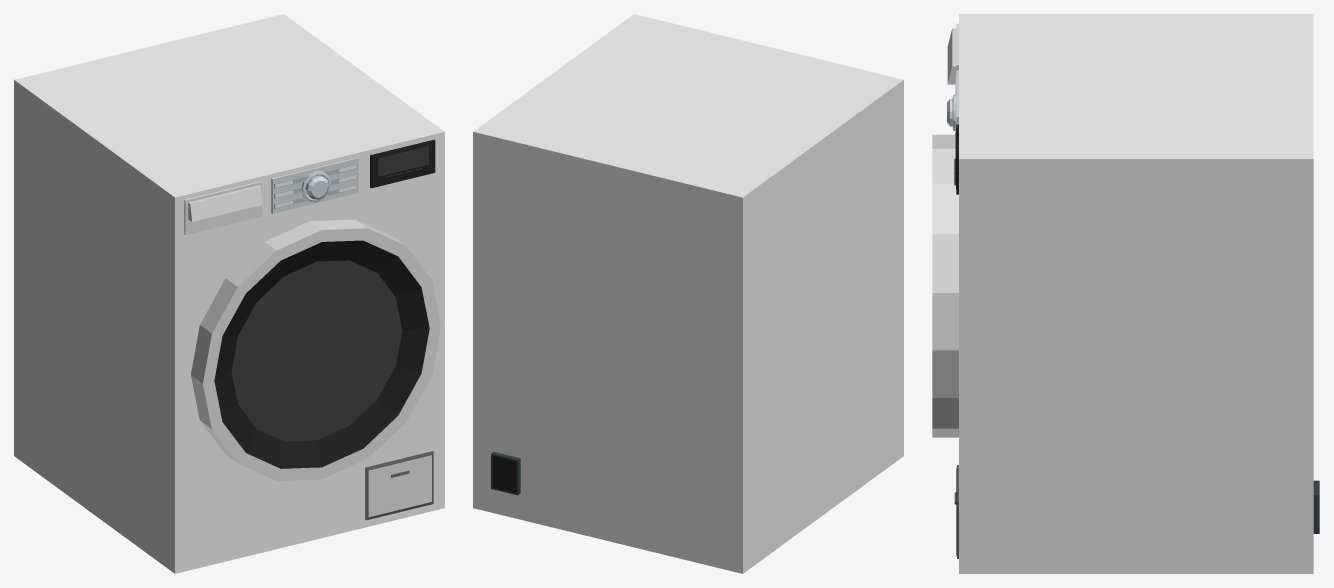
The model's file is KA-F600_Washer_V1.glb.
3 views of the same model, side by side, from view 1: azimuth 30°, elevation 25°; view 2: azimuth 150°, elevation 25°; view 3: azimuth 270°, elevation 25° (orthographic). The views are drawn at different scales.
Visible parts, largest first — view 1: KA-F600_Washer_V1, KA-F600_Washer_V1_Door, KA-F600_Washer_V1_Tray, KA-F600_Washer_V1_Knob; view 2: KA-F600_Washer_V1; view 3: KA-F600_Washer_V1, KA-F600_Washer_V1_Door, KA-F600_Washer_V1_Tray.
Part boxes in pixels (x1=…): KA-F600_Washer_V1: x1=14, y1=14, x2=444, y2=573; KA-F600_Washer_V1_Door: x1=191, y1=219, x2=441, y2=480; KA-F600_Washer_V1_Tray: x1=184, y1=181, x2=262, y2=235; KA-F600_Washer_V1_Knob: x1=301, y1=171, x2=331, y2=202; KA-F600_Washer_V1: x1=473, y1=14, x2=903, y2=573; KA-F600_Washer_V1: x1=954, y1=14, x2=1319, y2=573; KA-F600_Washer_V1_Door: x1=932, y1=134, x2=958, y2=437; KA-F600_Washer_V1_Tray: x1=947, y1=23, x2=958, y2=84.
Size of the model in its own units: 0.6 by 0.8 by 0.6772.
2 materials, 2 textured.
